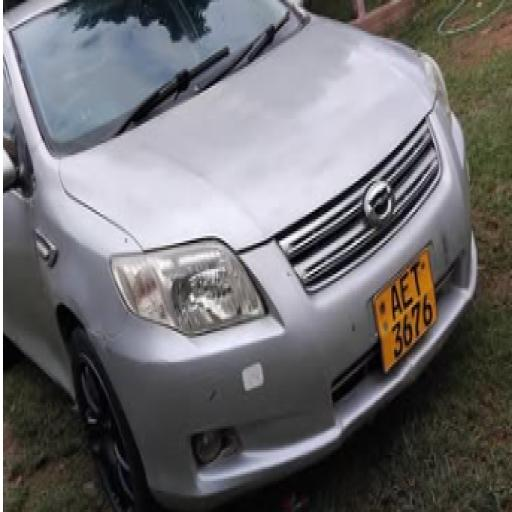number-plates: (378, 261, 435, 354)
